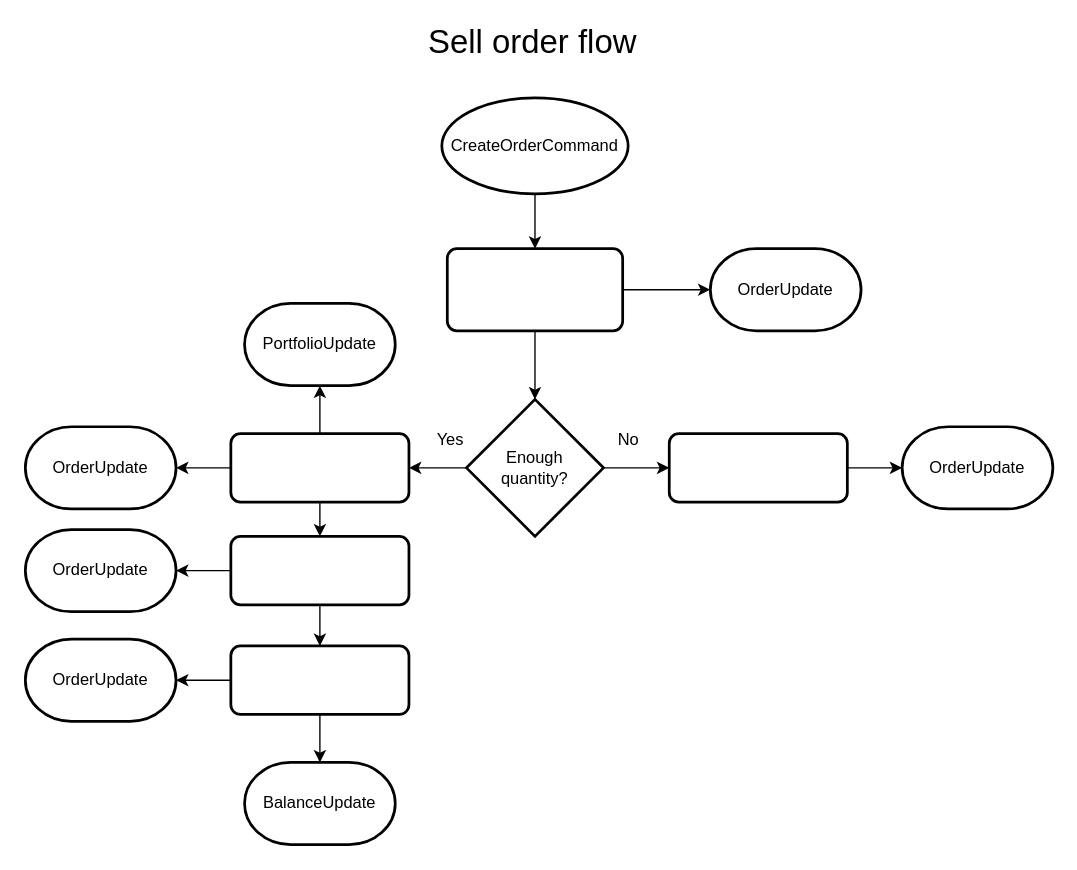
Image size: 1077x870. Some labels were removed from this diagram. The shapes that lost their labels are listed below. From the top down, each one's centre as x and y in pixels, then its label:
At point (534, 289): "OrderCreatedEvent".
At point (319, 467): "OrderAcceptedEvent".
At point (757, 467): "OrderRejectedEvent".
At point (319, 570): "OrderPlacedEvent".
At point (319, 679): "OrderFulfilledEvent".
